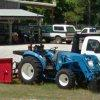Tractor: (19, 41, 93, 90)
